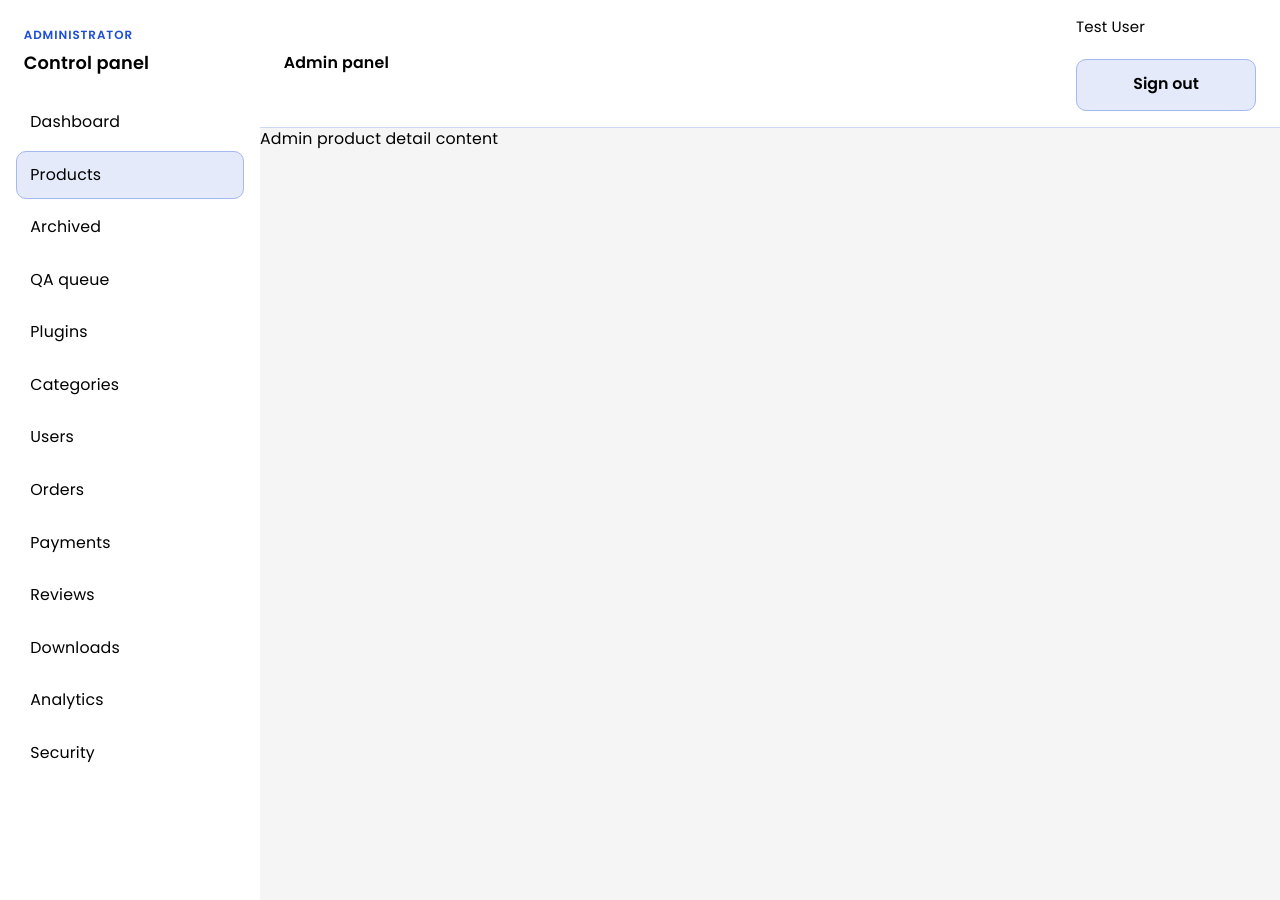
Test case: AdminLayout › highlights the active route and detail pages under the parent section
Expected: the text "Admin product detail content" is shown, [260,127,498,150]
What coordinates should you click on to do the following:
click the link "Dashboard"
I would click on:
 (75, 121)
Its box is [30,110,120,133].
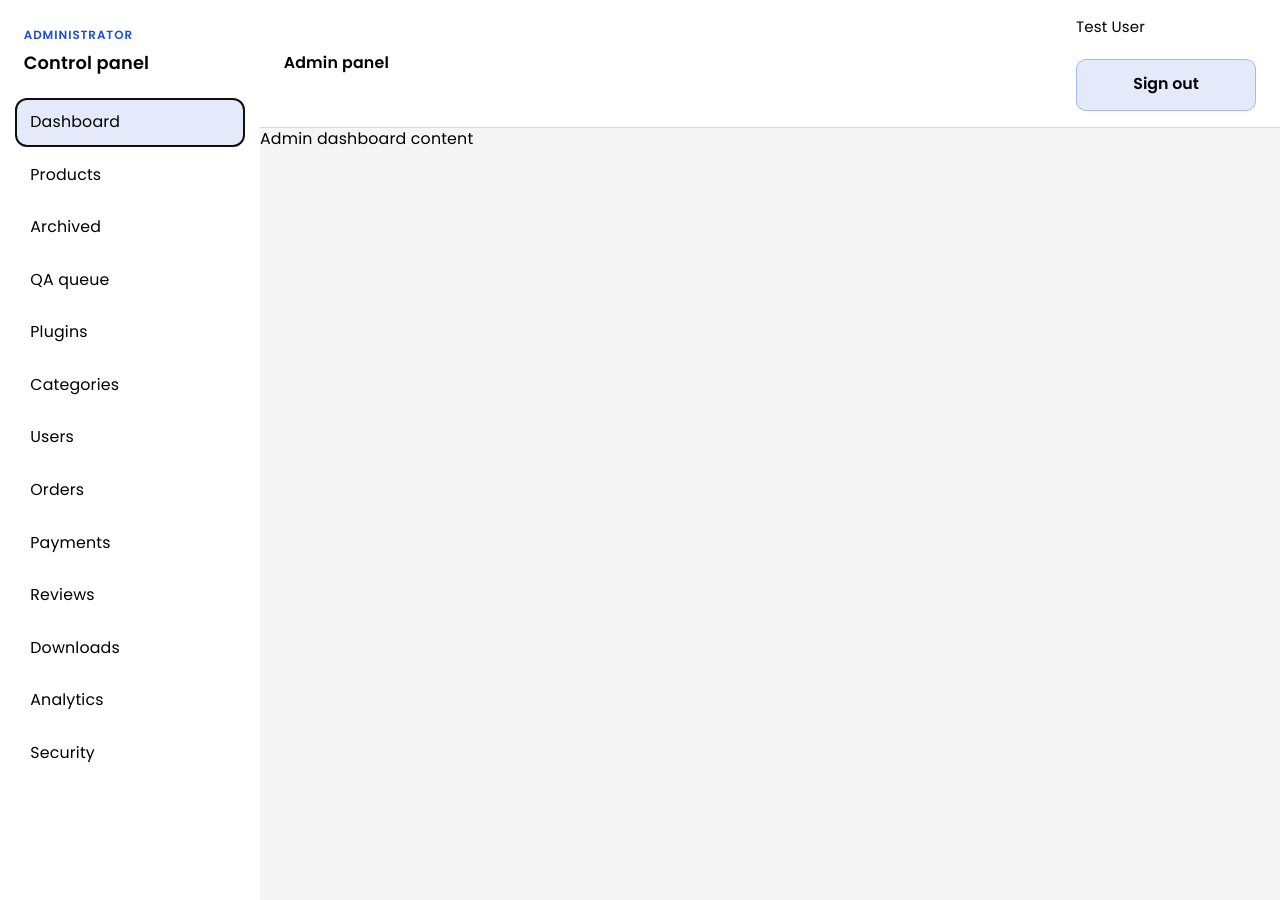
Now the text "Admin dashboard content" is shown, box [260,127,473,150]
